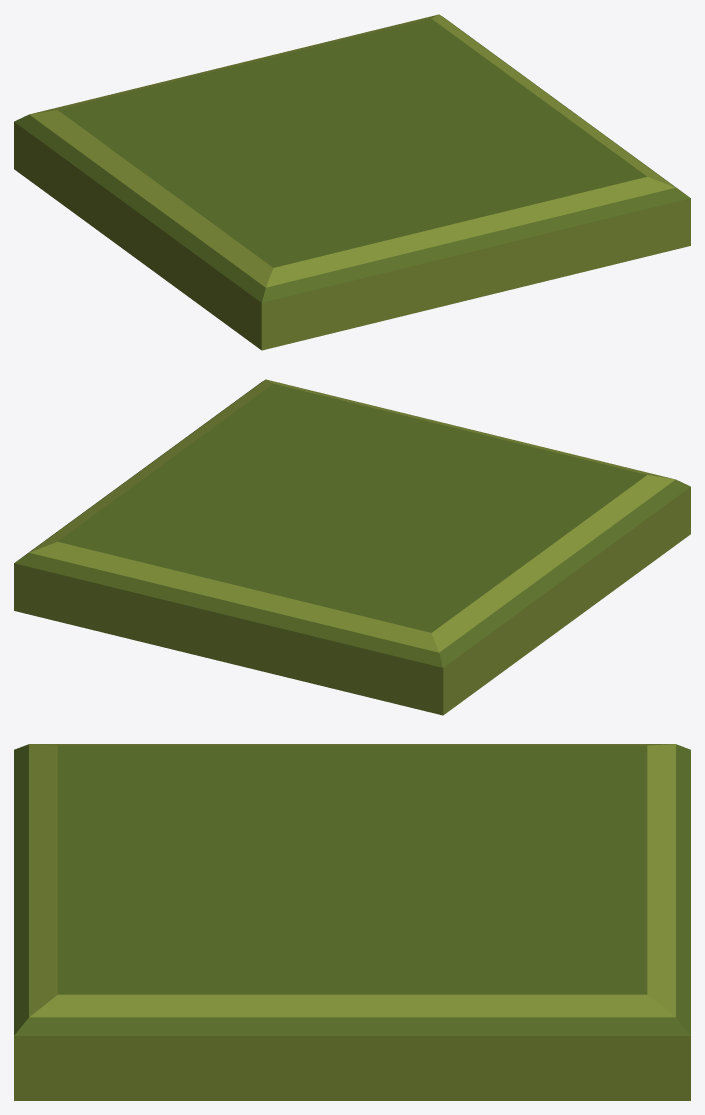
Rendered from spawn_block_2.fbx.
3 renders of one model, top to bottom at view 1: azimuth 30°, elevation 25°; view 2: azimuth 150°, elevation 25°; view 3: azimuth 270°, elevation 25°, orthographic. The views are drawn at different scales.
Visible parts, largest first — view 1: Cube; view 2: Cube; view 3: Cube.
Part boxes in pixels (bbox=[...]): Cube: bbox=[14, 14, 690, 350]; Cube: bbox=[14, 379, 690, 715]; Cube: bbox=[14, 744, 690, 1100].
Bounding box in the file's own units: 2000 × 2000 × 286.
